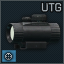Leapers UTG reflex sight: (0, 0, 64, 64)
